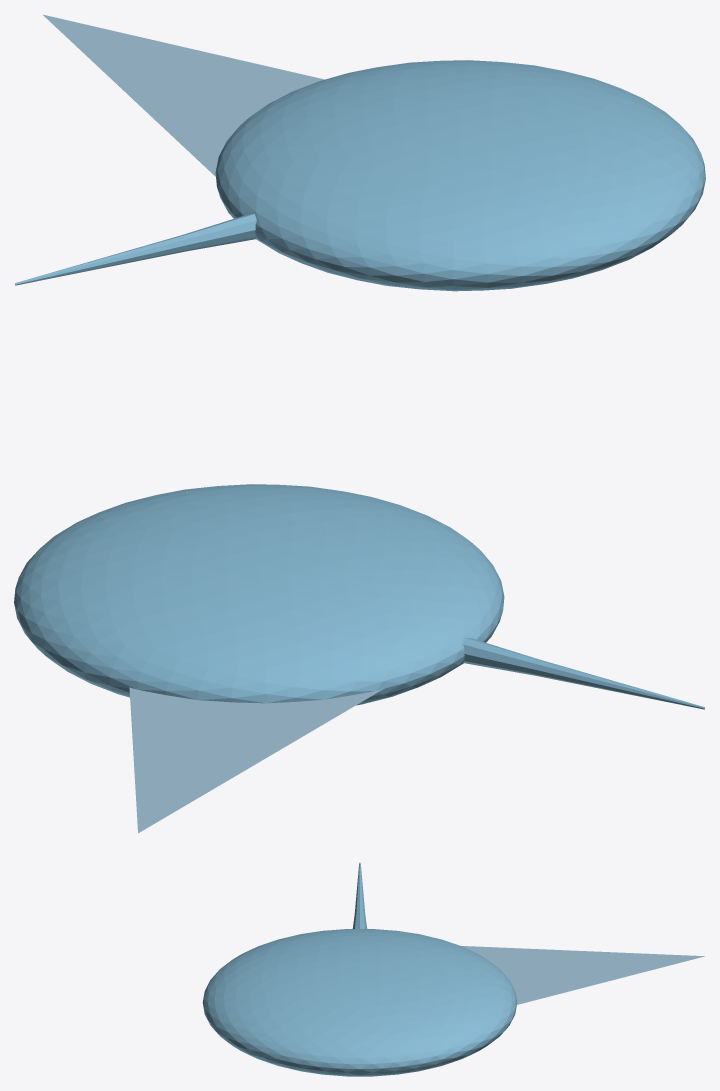
The picture shows the model from 3 angles, top to bottom: view 1: azimuth 30°, elevation 25°; view 2: azimuth 150°, elevation 25°; view 3: azimuth 270°, elevation 25°; orthographic projection. The views are drawn at different scales.
Visible parts, largest first — view 1: ray_00, ray_01, ray_03; view 2: ray_00, ray_01, ray_03; view 3: ray_00, ray_01, ray_03.
Part boxes in pixels (bbox=[...]): ray_00: bbox=[215, 60, 705, 291]; ray_01: bbox=[43, 14, 324, 176]; ray_03: bbox=[15, 214, 256, 285]; ray_00: bbox=[14, 484, 504, 705]; ray_01: bbox=[129, 687, 383, 833]; ray_03: bbox=[463, 638, 704, 709]; ray_00: bbox=[202, 929, 517, 1076]; ray_01: bbox=[461, 946, 704, 1004]; ray_03: bbox=[352, 862, 367, 928].
Size of the model in its own units: 3.1 by 0.46 by 4.4.
